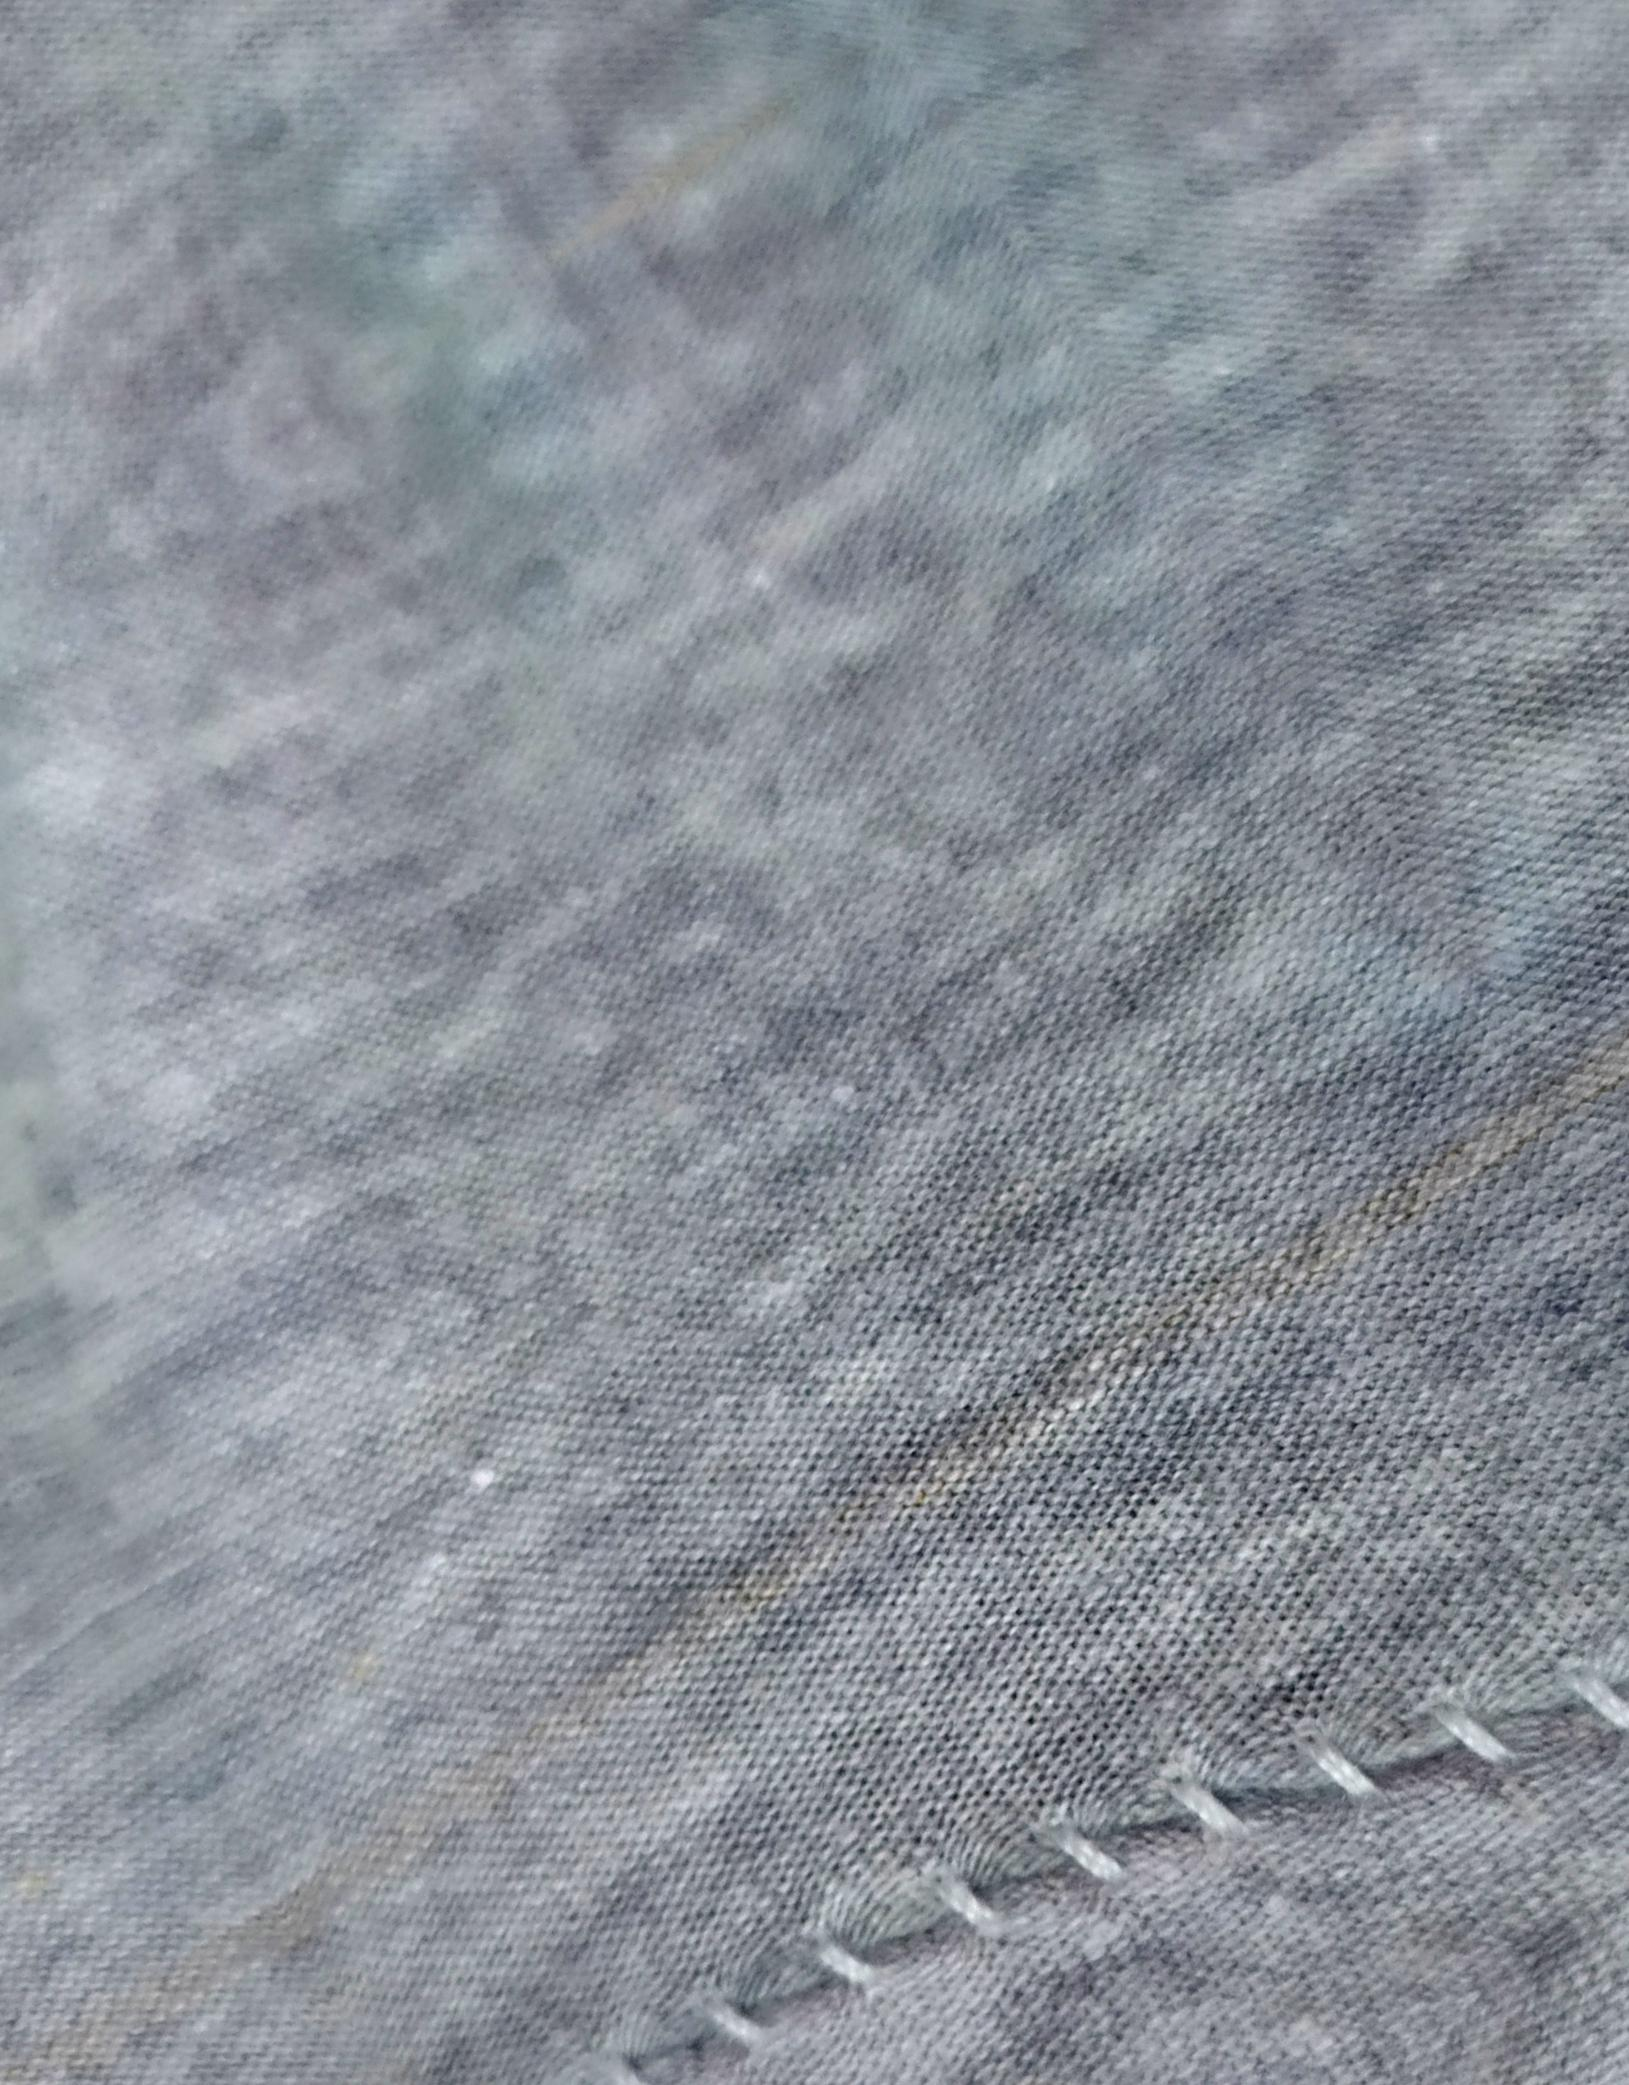slub: (619, 1667, 1627, 2077)
